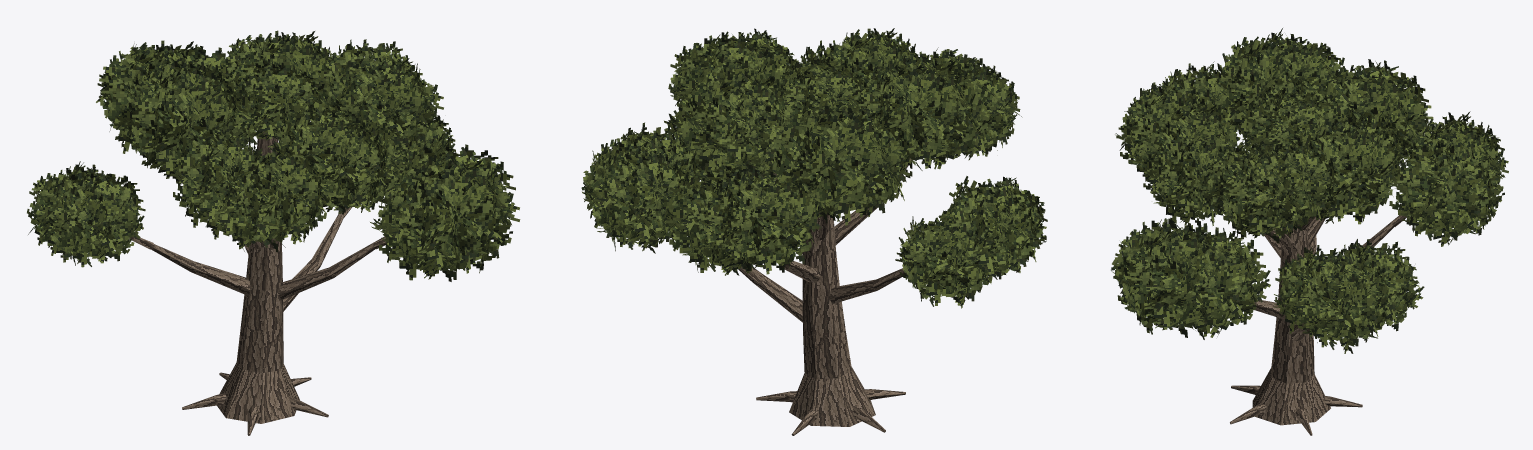
Rendered from TREE_Oak_C.glb.
3 renders of one model, left to right at view 1: azimuth 30°, elevation 25°; view 2: azimuth 150°, elevation 25°; view 3: azimuth 270°, elevation 25°, orthographic. The views are drawn at different scales.
Visible parts, largest first — view 1: TREE_Oak_C__Card, TREE_Oak_C__Bark; view 2: TREE_Oak_C__Card, TREE_Oak_C__Bark; view 3: TREE_Oak_C__Card, TREE_Oak_C__Bark.
Part boxes in pixels (bbox=[...]): TREE_Oak_C__Card: bbox=[27, 30, 520, 281]; TREE_Oak_C__Bark: bbox=[129, 131, 386, 435]; TREE_Oak_C__Card: bbox=[581, 28, 1047, 308]; TREE_Oak_C__Bark: bbox=[738, 158, 913, 435]; TREE_Oak_C__Card: bbox=[1111, 28, 1508, 353]; TREE_Oak_C__Bark: bbox=[1230, 209, 1406, 435].
Bounding box in the file's own units: 10.74 × 8.16 × 9.35.
3 materials, 3 textured.
